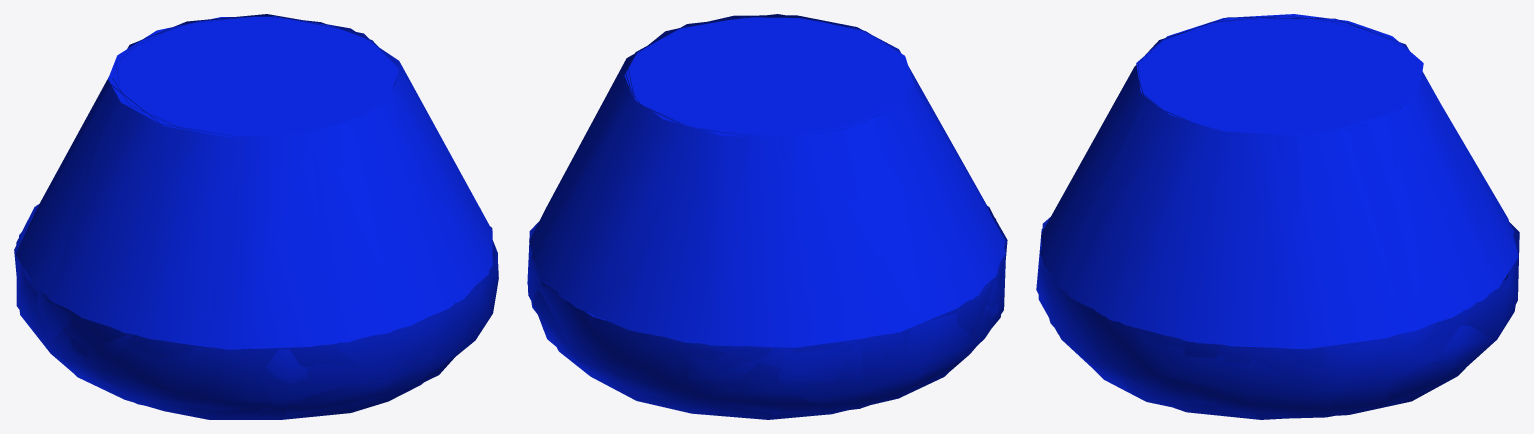
The model's file is liquid_blue.glb.
3 renders of one model, left to right at view 1: azimuth 30°, elevation 25°; view 2: azimuth 150°, elevation 25°; view 3: azimuth 270°, elevation 25°, orthographic.
Parts seen in each view (by area): view 1: SketchUp; view 2: SketchUp; view 3: SketchUp.
Boxes of the visible parts, x1,y1,x2,y2 form: SketchUp: [14, 14, 498, 419]; SketchUp: [527, 14, 1007, 419]; SketchUp: [1036, 14, 1519, 419].
Bounding box in the file's own units: 2.27 × 1.34 × 2.26.
